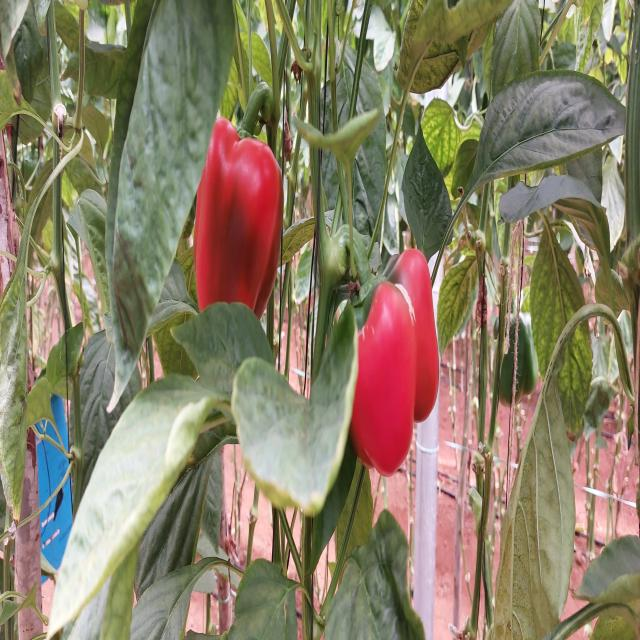Red-Ready-to-Harvest: (330, 226, 446, 473), (192, 106, 289, 330)
